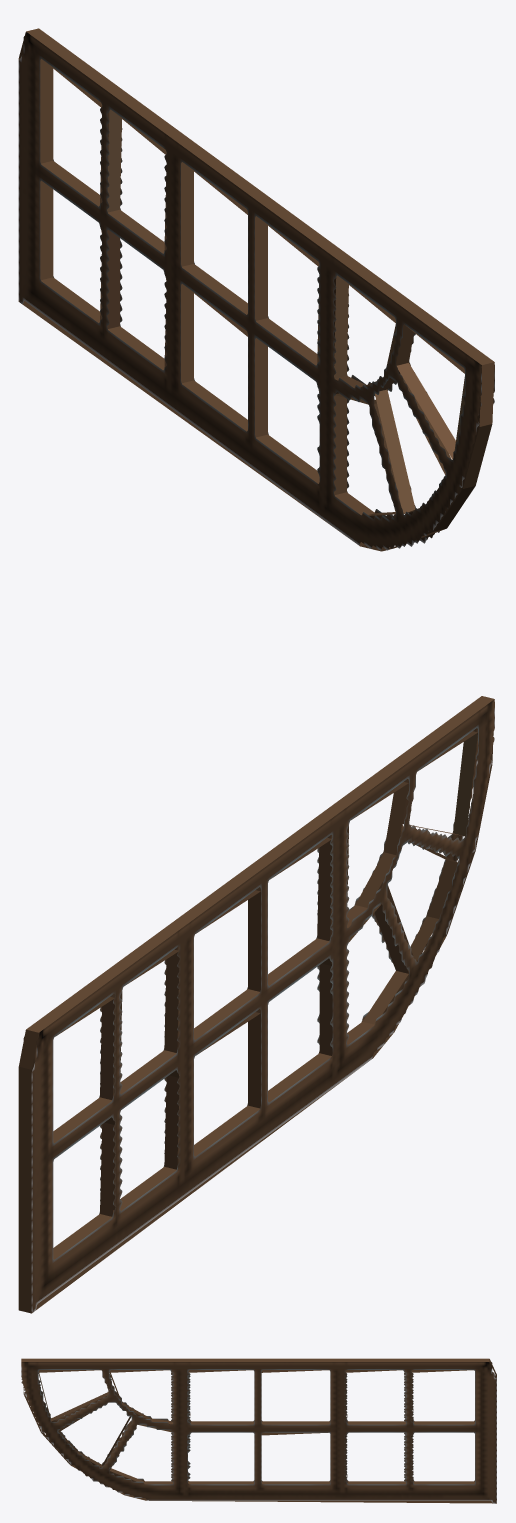
Rendered from pz_native_fixtures_windows_wood_6_frame.obj.
3 views of the same model, one above another, from view 1: azimuth 30°, elevation 25°; view 2: azimuth 150°, elevation 25°; view 3: azimuth 270°, elevation 25° (orthographic). The views are drawn at different scales.
Parts seen in each view (by area): view 1: pz_native_fixtures_windows_wood_6_frame; view 2: pz_native_fixtures_windows_wood_6_frame; view 3: pz_native_fixtures_windows_wood_6_frame.
Boxes of the visible parts, box(x1,y1,x2,y2) form: pz_native_fixtures_windows_wood_6_frame: box(18, 28, 494, 551); pz_native_fixtures_windows_wood_6_frame: box(18, 696, 494, 1313); pz_native_fixtures_windows_wood_6_frame: box(21, 1358, 496, 1503).
Bounding box in the file's own units: 0.04 × 0.8594 × 2.54.
Materials: 1 (1 with a texture image).
